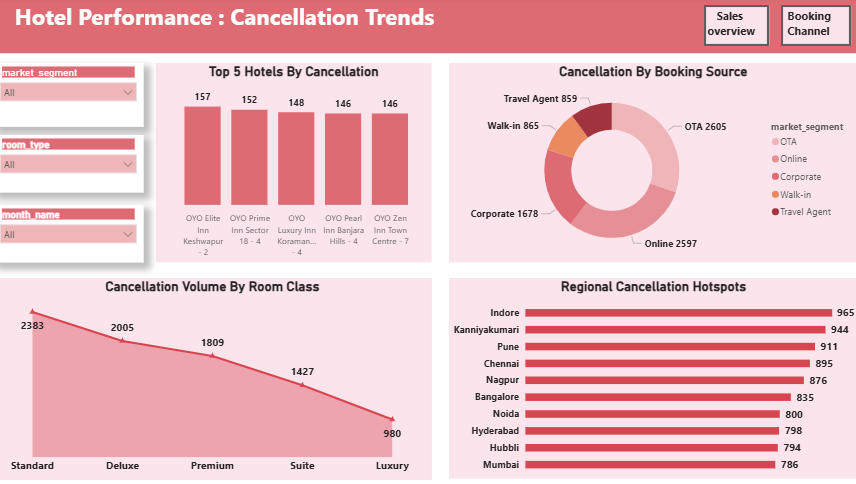

The dashboard page shown, as its layout file describes it:
{"tool":"powerbi","page":{"name":"Hotel Performance","canvas":[1280,720],"ordinal":1},"visuals":[{"type":"clusteredColumnChart","title":"Top 5 Hotels By Cancellation","fields":{"Category":["Dim_Hotels.hotel_name"],"Y":["Sum(Fact_Bookings.is_canceled)"]},"box":[256.7,95.1,396.7,287.2],"z":0},{"type":"donutChart","title":"Cancellation By Booking Source","fields":{"Category":["Fact_Bookings.market_segment"],"Y":["Sum(Fact_Bookings.is_canceled)"]},"box":[678.6,95.1,588.8,287.2],"z":2000},{"type":"clusteredBarChart","title":"Regional Cancellation Hotspots","fields":{"Category":["Dim_Hotels.city"],"Y":["Sum(Fact_Bookings.is_canceled)"]},"box":[678.2,404.6,589,289.4],"z":3000},{"type":"areaChart","title":"Cancellation Volume By Room Class","fields":{"Category":["Fact_Bookings.room_type"],"Y":["Sum(Fact_Bookings.is_canceled)"]},"box":[21.5,403.9,631.9,290.8],"z":5000},{"type":"textbox","box":[30.2,0,1245.6,80.6],"z":5001},{"type":"slicer","fields":{"Values":["Fact_Bookings.market_segment"]},"box":[21.5,95.1,217.2,91.6],"z":5002},{"type":"slicer","fields":{"Values":["Dim_Rooms.room_type"]},"box":[21.5,199.3,217.2,82.6],"z":5003},{"type":"slicer","fields":{"Values":["Dim_Date.month_name"]},"box":[21.5,299.8,217.2,82.6],"z":5004},{"type":"textbox","box":[1045.4,11.5,93.6,59],"z":5005},{"type":"textbox","box":[1156.3,11.5,100.8,59],"z":5006},{"type":"actionButton","box":[1156.3,11.5,100.8,59],"z":5007},{"type":"actionButton","box":[1045.4,11.5,93.6,59],"z":5008}]}

Visuals, with their boxes in screenshot pixels (x1, y1, x2, y2), scaled from the page's 1280x720 canvas onto the 856x484 screenshot:
"Top 5 Hotels By Cancellation" clusteredColumnChart: [172,64,437,257]
"Cancellation By Booking Source" donutChart: [454,64,848,257]
"Regional Cancellation Hotspots" clusteredBarChart: [454,272,847,467]
"Cancellation Volume By Room Class" areaChart: [14,272,437,467]
textbox: [20,0,853,54]
slicer - Fact_Bookings.market_segment: [14,64,160,126]
slicer - Dim_Rooms.room_type: [14,134,160,189]
slicer - Dim_Date.month_name: [14,202,160,257]
textbox: [699,8,762,47]
textbox: [773,8,841,47]
actionButton: [773,8,841,47]
actionButton: [699,8,762,47]
